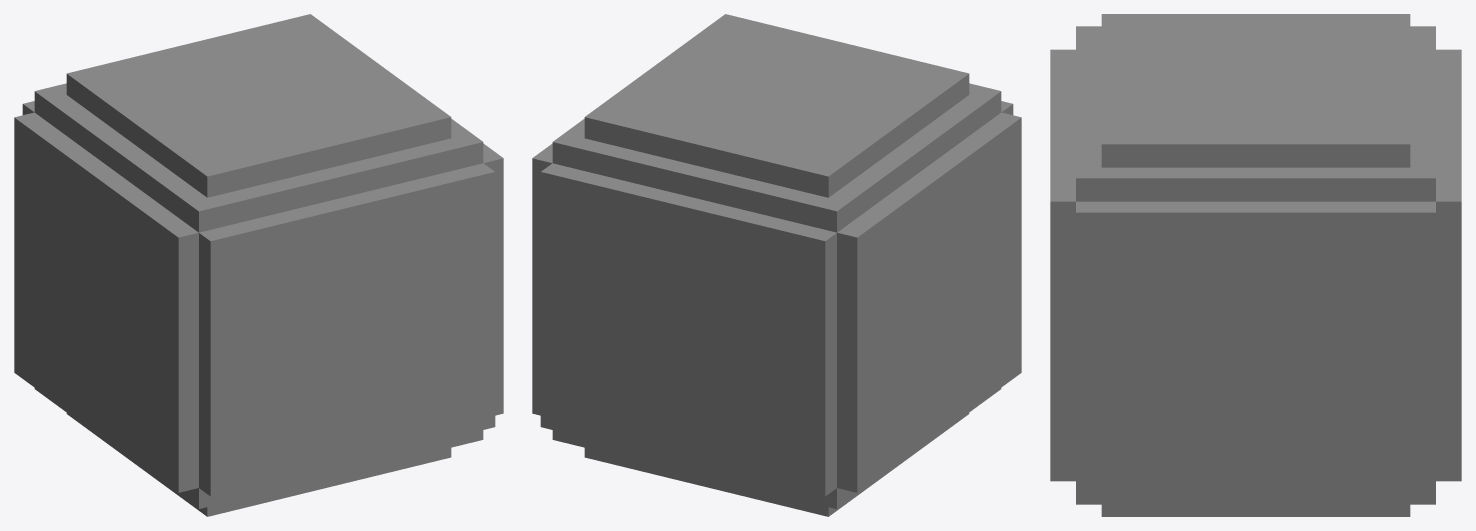
The model's file is blocogg.obj.
3 renders of one model, left to right at view 1: azimuth 30°, elevation 25°; view 2: azimuth 150°, elevation 25°; view 3: azimuth 270°, elevation 25°, orthographic. The views are drawn at different scales.
Bounding box in the file's own units: 1.6 × 1.6 × 1.6.
1 material, 1 textured.
